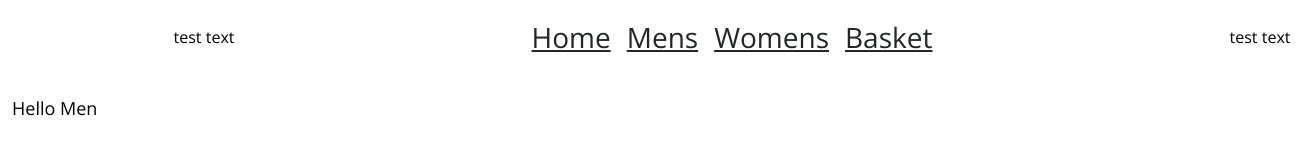
Test case: renders the Womens Page with ID
find the nav link
Step 1. Click the link "Womens" → (772, 37), box [714,18,829,56]
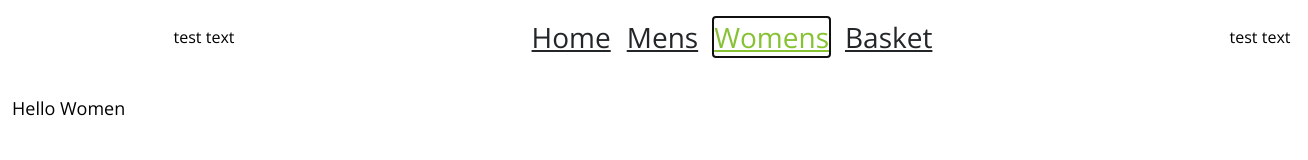
Check: the element with test id "women-router-page" is shown, box [12,96,125,120]
